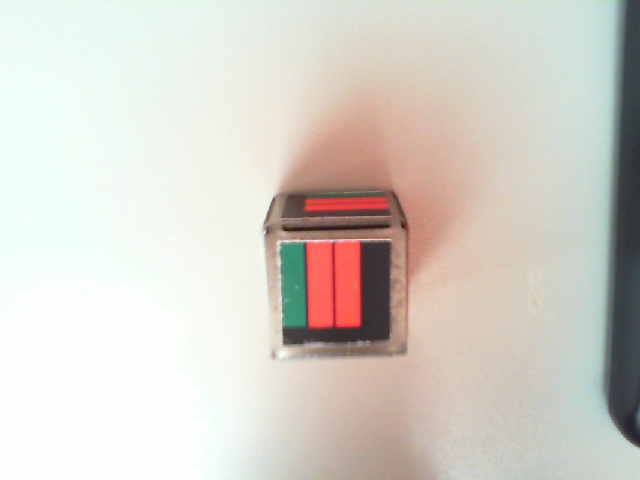square: (279, 241, 390, 342)
